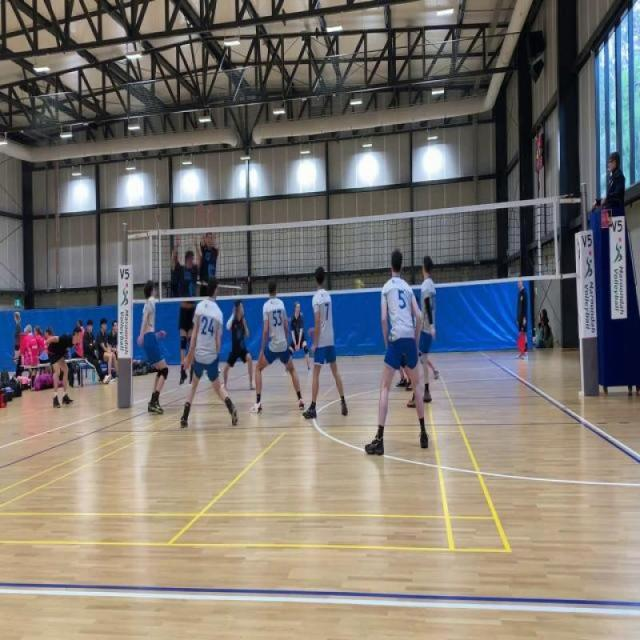volleyball: (354, 275, 364, 290), (252, 264, 256, 272)
